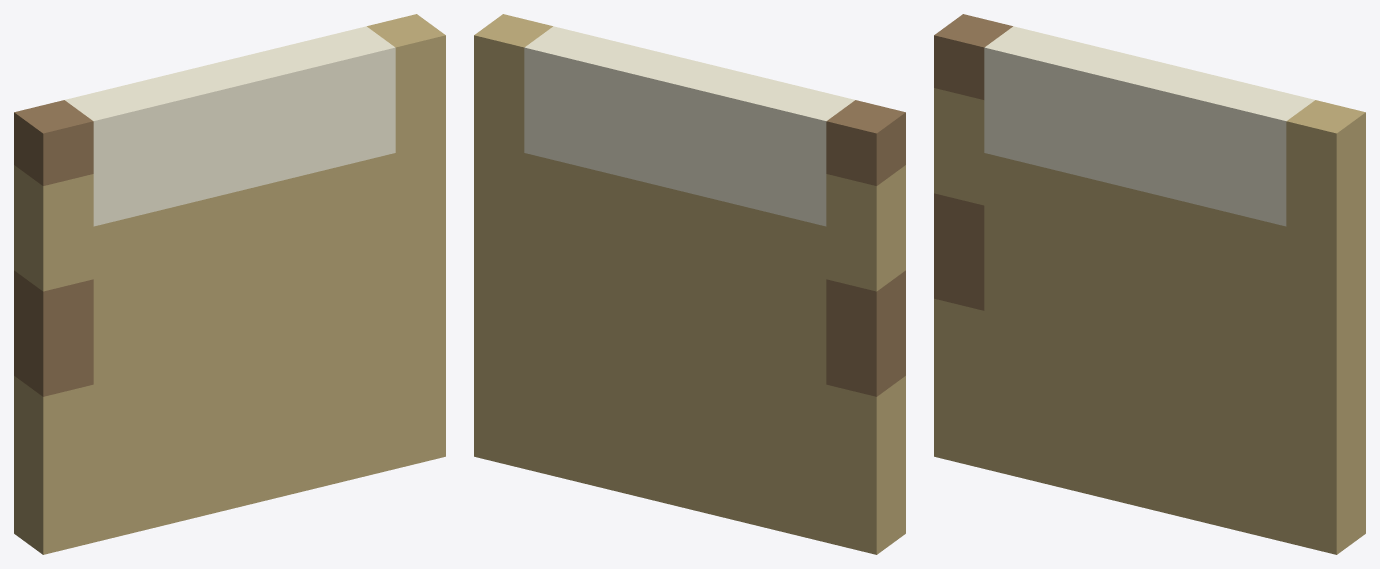
Rendered from Aspen Door.glb.
The picture shows the model from 3 angles, left to right: view 1: azimuth 30°, elevation 25°; view 2: azimuth 150°, elevation 25°; view 3: azimuth 330°, elevation 25°; orthographic projection.
Parts seen in each view (by area): view 1: generated(Clone); view 2: generated(Clone); view 3: generated(Clone).
Boxes of the visible parts, left/top/right/bottom form: generated(Clone): left=14, top=14, right=445, bottom=554; generated(Clone): left=474, top=14, right=905, bottom=554; generated(Clone): left=934, top=14, right=1365, bottom=554.
Size of the model in its own units: 8 by 8 by 1.
Materials: 1 (1 with a texture image).
